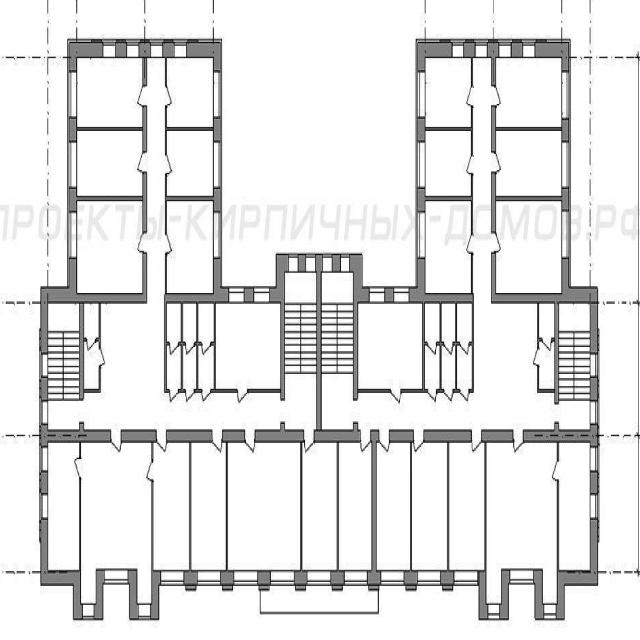Corridors: (358, 58, 554, 429), (84, 59, 280, 429), (260, 585, 379, 613), (539, 343, 554, 388), (84, 342, 98, 388), (199, 346, 213, 388), (425, 346, 439, 388), (457, 346, 471, 388), (199, 302, 213, 342), (167, 345, 180, 388), (425, 303, 439, 340), (183, 346, 195, 388), (457, 304, 471, 340), (183, 303, 196, 340), (442, 347, 454, 387), (540, 304, 554, 338), (84, 304, 98, 338), (167, 304, 180, 340), (443, 304, 454, 341)
Doors: (111, 429, 123, 455), (303, 429, 315, 455), (512, 429, 524, 455), (471, 429, 482, 457), (379, 429, 391, 454), (413, 429, 425, 454), (244, 430, 256, 454), (360, 430, 371, 456), (135, 151, 147, 174), (156, 430, 167, 455), (212, 429, 223, 454), (135, 85, 147, 107), (136, 231, 147, 255), (490, 231, 502, 252), (491, 151, 502, 173), (491, 85, 501, 107), (464, 155, 474, 176), (551, 460, 560, 483), (165, 85, 174, 107), (391, 388, 402, 406), (72, 457, 81, 478), (237, 389, 248, 406), (443, 340, 454, 357), (165, 232, 173, 255), (465, 234, 473, 257), (464, 87, 473, 107), (169, 388, 179, 406), (165, 153, 173, 175), (427, 388, 437, 405), (146, 462, 154, 483), (86, 338, 96, 354), (169, 342, 179, 358), (201, 342, 211, 358), (201, 388, 211, 404), (443, 388, 453, 404), (459, 389, 470, 403), (186, 341, 195, 358), (428, 341, 437, 358), (459, 342, 469, 357), (185, 389, 194, 405), (542, 338, 552, 352), (532, 348, 539, 367), (99, 348, 106, 367), (79, 400, 84, 422), (281, 399, 285, 422), (555, 404, 559, 422), (354, 399, 357, 422)
LBwalls: (38, 251, 147, 354), (491, 251, 600, 353), (314, 254, 361, 443), (40, 519, 83, 620), (556, 518, 598, 620), (164, 257, 229, 304), (409, 258, 474, 304), (269, 253, 289, 401), (350, 253, 370, 401), (367, 429, 381, 590), (523, 422, 600, 449), (38, 422, 111, 448), (415, 38, 452, 71), (535, 38, 572, 71), (67, 38, 103, 71), (186, 38, 222, 70), (254, 422, 304, 443), (167, 428, 213, 443), (423, 430, 472, 444), (499, 568, 511, 621), (127, 569, 139, 621), (487, 39, 499, 89), (532, 568, 543, 621), (94, 568, 105, 620), (150, 569, 161, 620), (477, 569, 487, 620), (121, 429, 157, 443), (79, 304, 84, 401), (481, 430, 513, 443), (389, 429, 414, 443), (491, 171, 496, 233), (222, 430, 245, 443), (184, 570, 198, 591), (220, 570, 234, 591), (257, 569, 271, 590), (330, 569, 344, 590), (403, 569, 417, 590), (440, 570, 454, 591), (294, 570, 307, 591), (590, 376, 600, 402), (143, 172, 147, 234), (463, 39, 476, 58), (415, 188, 425, 212), (491, 105, 496, 153), (67, 117, 77, 141), (38, 377, 48, 400), (511, 39, 523, 58), (115, 39, 127, 58), (590, 470, 599, 495), (561, 187, 570, 211), (561, 119, 570, 143), (416, 118, 425, 142), (67, 187, 76, 211), (213, 188, 222, 212), (213, 118, 222, 142), (139, 39, 150, 58), (163, 40, 174, 59), (39, 471, 48, 494), (143, 105, 147, 152), (244, 286, 253, 304), (298, 254, 306, 273), (332, 254, 340, 273), (385, 287, 393, 304), (143, 58, 147, 86)
Offices: (486, 444, 557, 604), (81, 442, 151, 604), (229, 443, 300, 569), (77, 202, 142, 292), (496, 203, 561, 292), (358, 304, 422, 388), (217, 304, 280, 388), (77, 59, 142, 128), (496, 58, 561, 126), (154, 444, 189, 569), (302, 444, 337, 569), (450, 444, 484, 570), (192, 444, 226, 569), (413, 444, 447, 569), (496, 131, 561, 195), (377, 444, 410, 570), (339, 444, 372, 569), (77, 131, 142, 194), (167, 203, 213, 292), (426, 202, 471, 292), (560, 444, 590, 570), (49, 444, 78, 568), (426, 57, 470, 126), (168, 59, 212, 126), (167, 131, 213, 194), (426, 131, 471, 194)
Stairs: (285, 273, 316, 429), (322, 274, 353, 429), (48, 304, 79, 429), (559, 303, 589, 429)
Walls: (425, 175, 474, 236), (165, 174, 213, 235), (400, 301, 428, 393), (210, 303, 238, 394), (425, 106, 473, 158), (165, 106, 213, 156), (193, 303, 203, 394), (452, 302, 461, 394), (436, 303, 445, 394), (177, 303, 186, 393), (537, 364, 555, 394), (164, 304, 170, 394), (468, 304, 474, 394), (84, 366, 101, 394), (555, 304, 559, 404), (496, 196, 561, 202), (189, 442, 192, 571), (336, 443, 339, 571), (77, 127, 143, 132), (77, 196, 143, 201), (496, 126, 561, 131), (78, 477, 81, 572), (95, 303, 101, 349), (537, 303, 543, 348), (485, 443, 487, 572), (226, 443, 228, 571), (447, 443, 449, 570), (300, 443, 302, 569), (410, 443, 412, 569), (151, 479, 153, 572), (557, 479, 559, 570), (247, 389, 280, 394), (359, 389, 391, 394), (471, 252, 473, 293), (165, 253, 167, 293), (471, 58, 473, 89), (557, 443, 560, 462), (165, 58, 167, 86), (554, 422, 559, 430), (79, 443, 81, 459), (84, 336, 87, 343), (152, 443, 153, 463), (551, 338, 555, 342)
Windows: (67, 70, 77, 118), (67, 140, 77, 188), (416, 69, 426, 117), (561, 140, 571, 188), (561, 71, 571, 119), (67, 212, 77, 259), (561, 211, 571, 258), (213, 141, 222, 189), (213, 70, 222, 118), (416, 140, 425, 188), (416, 212, 425, 260), (213, 211, 222, 258), (160, 569, 184, 586), (197, 570, 221, 587), (234, 569, 258, 586), (344, 570, 368, 587), (381, 569, 405, 586), (417, 570, 441, 587), (271, 570, 294, 587), (307, 569, 330, 586), (454, 569, 477, 586), (104, 569, 128, 585), (509, 569, 533, 585), (253, 286, 269, 304), (228, 286, 244, 303), (369, 286, 385, 303), (393, 286, 409, 303), (452, 39, 464, 59), (499, 37, 511, 57), (523, 38, 535, 58), (174, 38, 186, 58), (103, 38, 115, 58), (590, 399, 599, 425), (590, 353, 599, 379), (590, 446, 599, 472), (590, 493, 599, 519), (39, 494, 48, 519), (476, 38, 487, 58), (151, 38, 162, 58), (127, 38, 138, 58), (39, 401, 48, 425), (39, 354, 48, 377), (39, 448, 48, 471), (138, 603, 150, 620), (305, 254, 316, 272), (544, 604, 556, 620), (82, 604, 94, 620), (322, 254, 332, 273), (288, 254, 298, 272), (340, 254, 350, 272), (488, 604, 499, 620)
